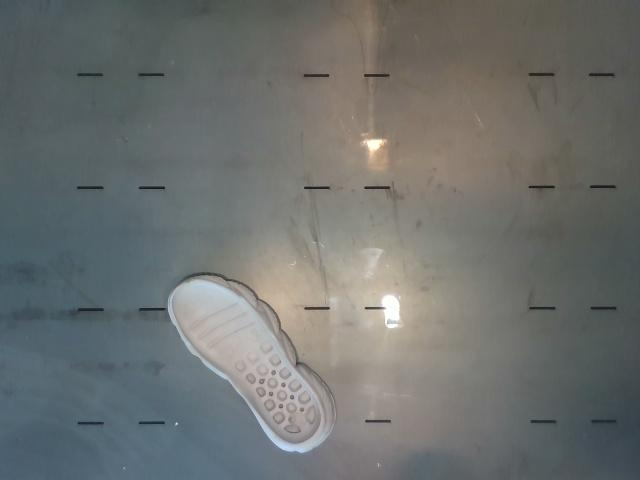shoes: (172, 280, 321, 443)
